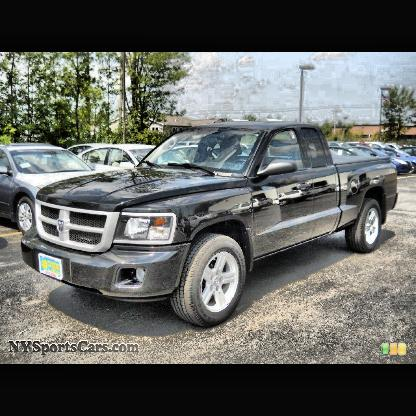Dodge Dakota Crew Cab 2010: (21, 123, 400, 329)
